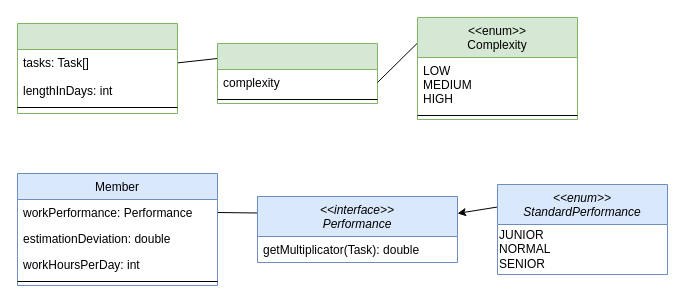
Image size: 685x303. Some labels were removed from this diagram. Each missing label, with the box of its shape:
Sprint: (16, 22, 178, 114)
Task: (216, 42, 378, 104)
